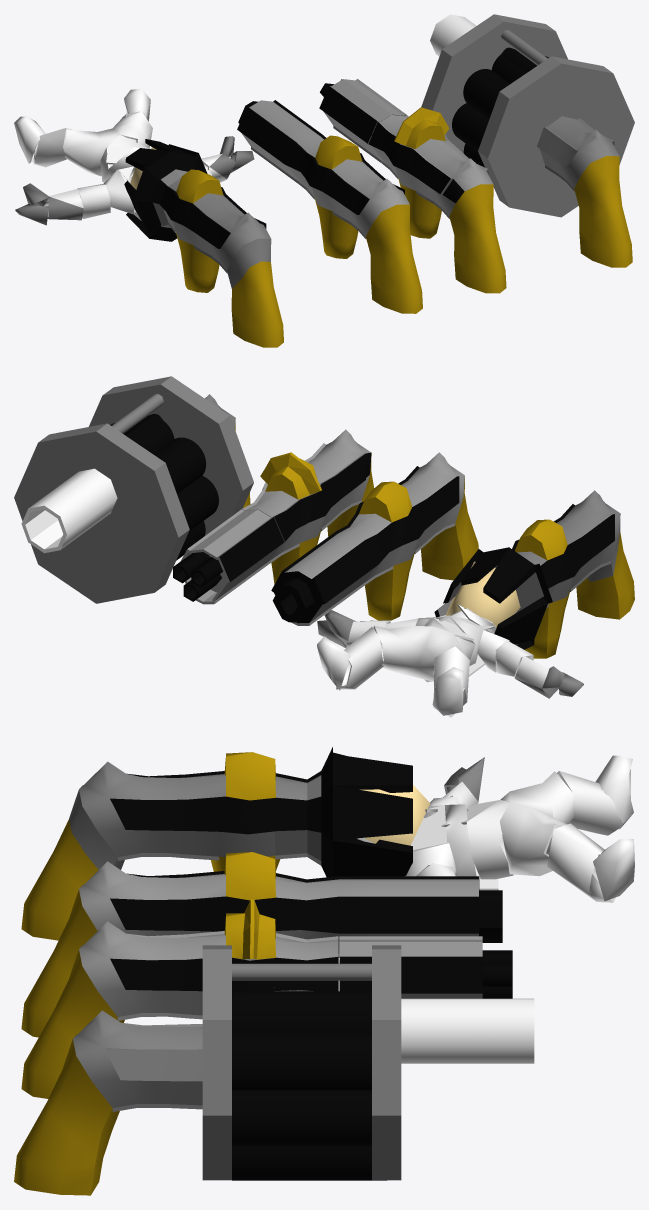
The model's file is weapons.FBX.
3 views of the same model, one above another, from view 1: azimuth 30°, elevation 25°; view 2: azimuth 150°, elevation 25°; view 3: azimuth 270°, elevation 25° (orthographic). The views are drawn at different scales.
Visible parts, largest first — view 1: GravityBomb, Turret, Dummy Gun, Assault Rifle, Dummy Shot; view 2: GravityBomb, Assault Rifle, Dummy Shot, Dummy Gun, Turret; view 3: GravityBomb, Dummy Gun, Assault Rifle, Turret, Dummy Shot.
Part boxes in pixels (box(x1,y1,x2,y2)): GravityBomb: box(421, 14, 634, 267); Turret: box(319, 79, 506, 293); Dummy Gun: box(124, 139, 283, 347); Assault Rifle: box(237, 100, 422, 313); Dummy Shot: box(14, 88, 254, 225); GravityBomb: box(14, 376, 253, 603); Assault Rifle: box(271, 452, 478, 625); Dummy Shot: box(317, 561, 583, 717); Dummy Gun: box(434, 490, 634, 658); Turret: box(173, 429, 373, 604); GravityBomb: box(14, 945, 534, 1195); Dummy Gun: box(21, 747, 412, 940); Assault Rifle: box(21, 852, 502, 1037); Turret: box(21, 899, 512, 1098); Dummy Shot: box(357, 755, 634, 902).
Bounding box in the file's own units: 7.62 × 2.17 × 5.26.
